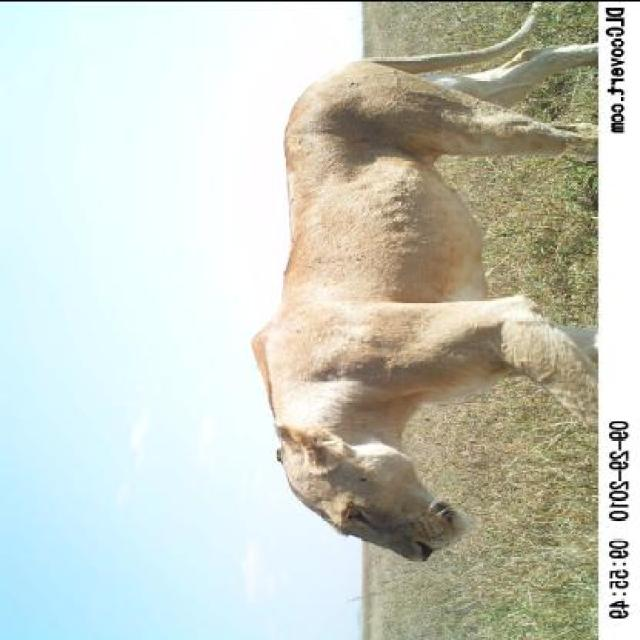Lion: (200, 11, 603, 595)
